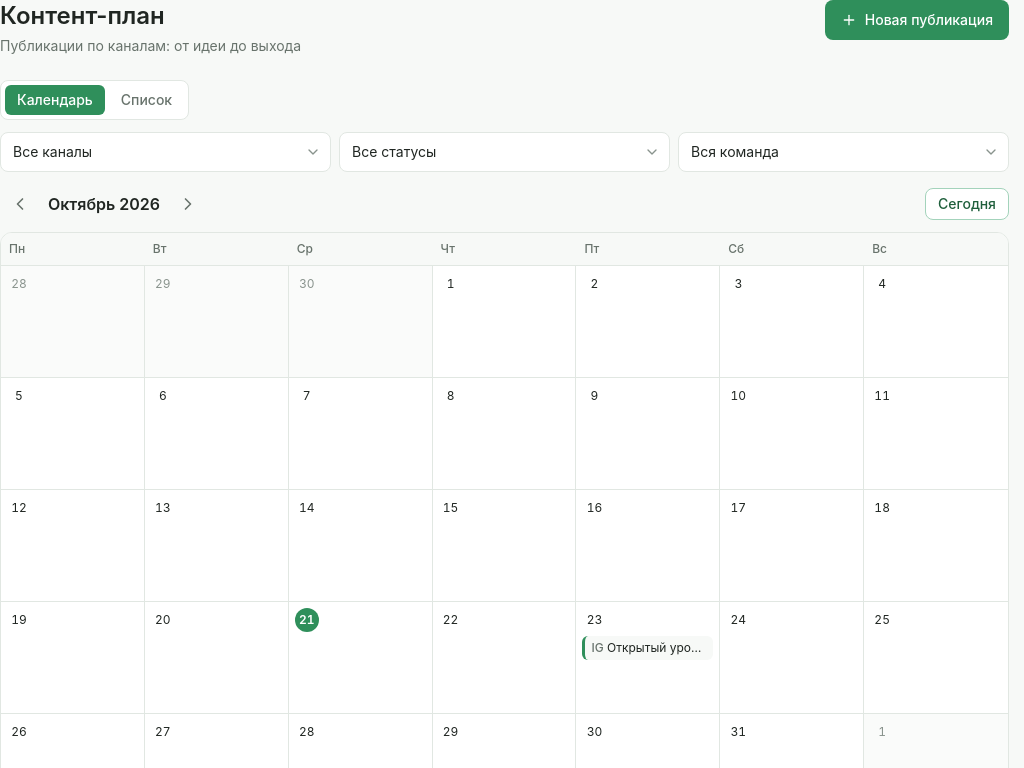
Test: контент-план › чужую публикацию можно править, но не удалить
The width and height of the screenshot is (1024, 768).
Click the button "IG Открытый урок по робототехнике" at (648, 648), box x1=582 y1=636 x2=713 y2=660
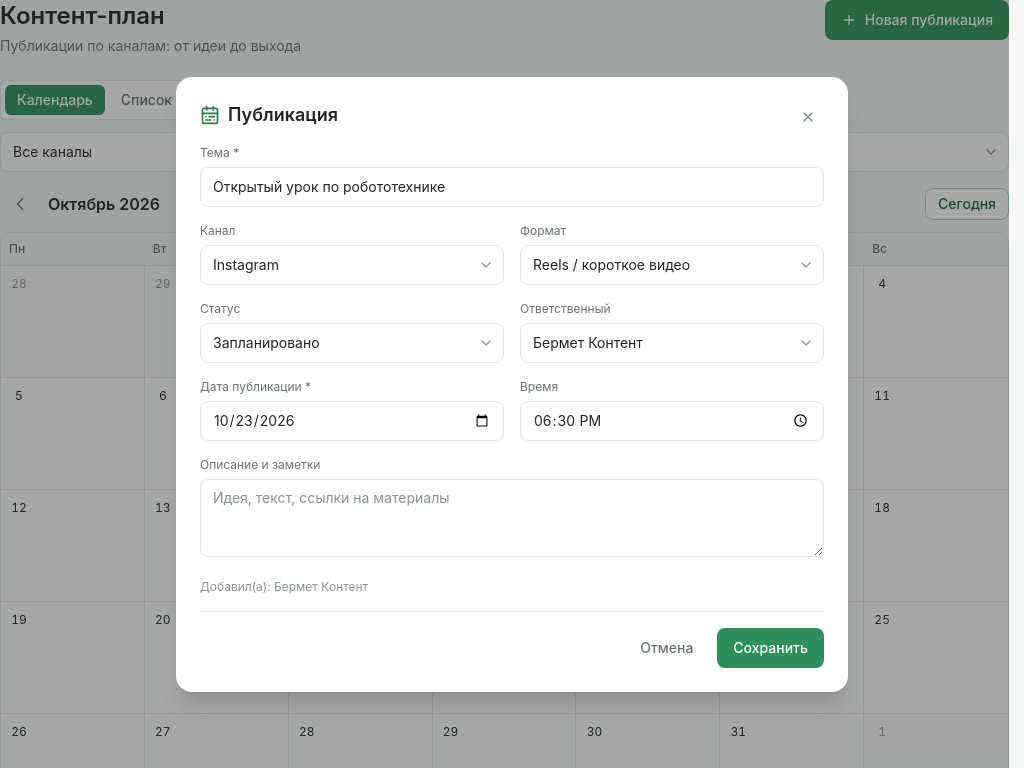
Check: the field labelled "Тема *" holds "Открытый урок по робототехнике", box x1=200 y1=166 x2=824 y2=206
Check: the time field labelled "Время" holds "18:30", box x1=520 y1=400 x2=824 y2=440
